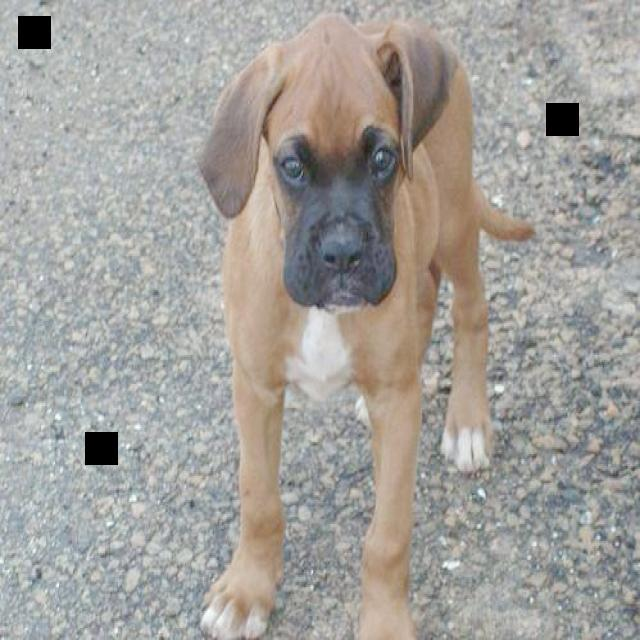puppy-dog: (196, 13, 541, 640)
